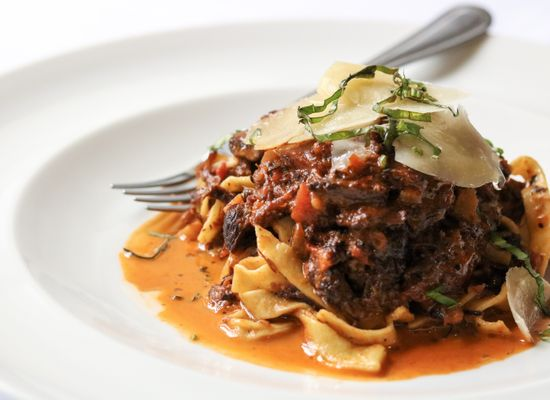burger: (111, 171, 202, 212)
soup: (211, 64, 546, 335)
